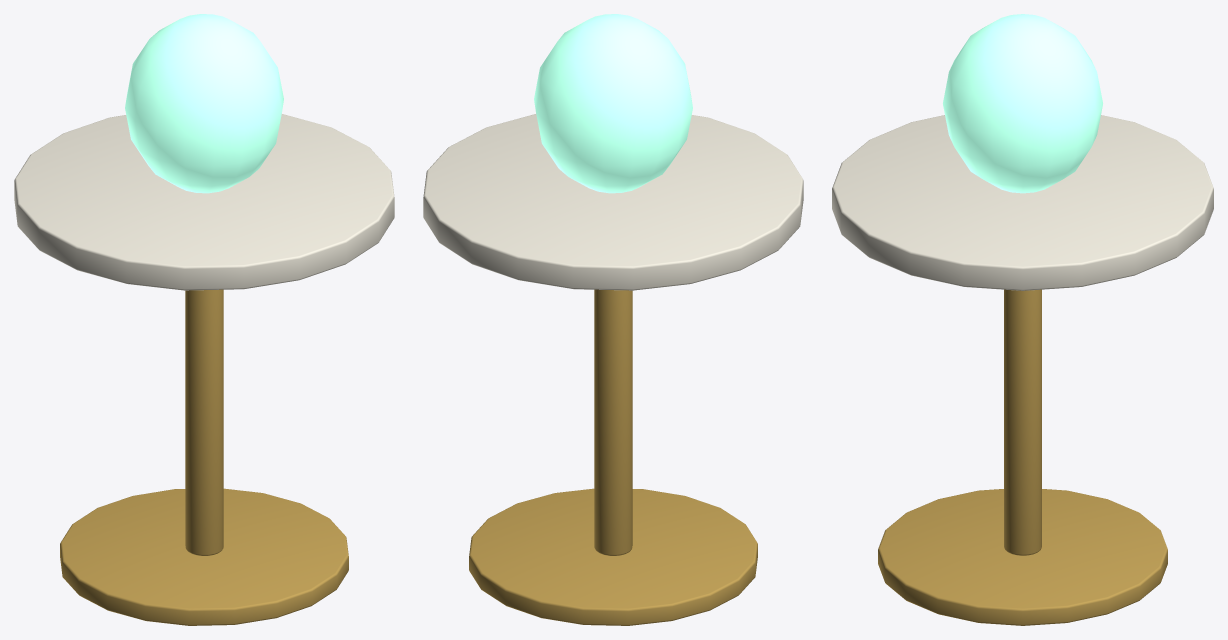
Rendered from orb_table.glb.
3 renders of one model, left to right at view 1: azimuth 30°, elevation 25°; view 2: azimuth 150°, elevation 25°; view 3: azimuth 270°, elevation 25°, orthographic.
Parts seen in each view (by area): view 1: Top, Base, Orb, Stem; view 2: Top, Base, Orb, Stem; view 3: Top, Base, Orb, Stem.
Boxes of the visible parts, x1,y1,x2,y2 form: Top: (14, 114, 394, 290); Base: (60, 488, 348, 625); Orb: (125, 14, 283, 193); Stem: (185, 289, 223, 555); Top: (423, 114, 803, 290); Base: (469, 488, 757, 625); Orb: (534, 14, 692, 193); Stem: (594, 289, 632, 555); Top: (832, 115, 1213, 290); Base: (878, 489, 1167, 625); Orb: (943, 14, 1102, 193); Stem: (1004, 289, 1041, 555).
Bounding box in the file's own units: 0.5 × 0.787 × 0.5.
